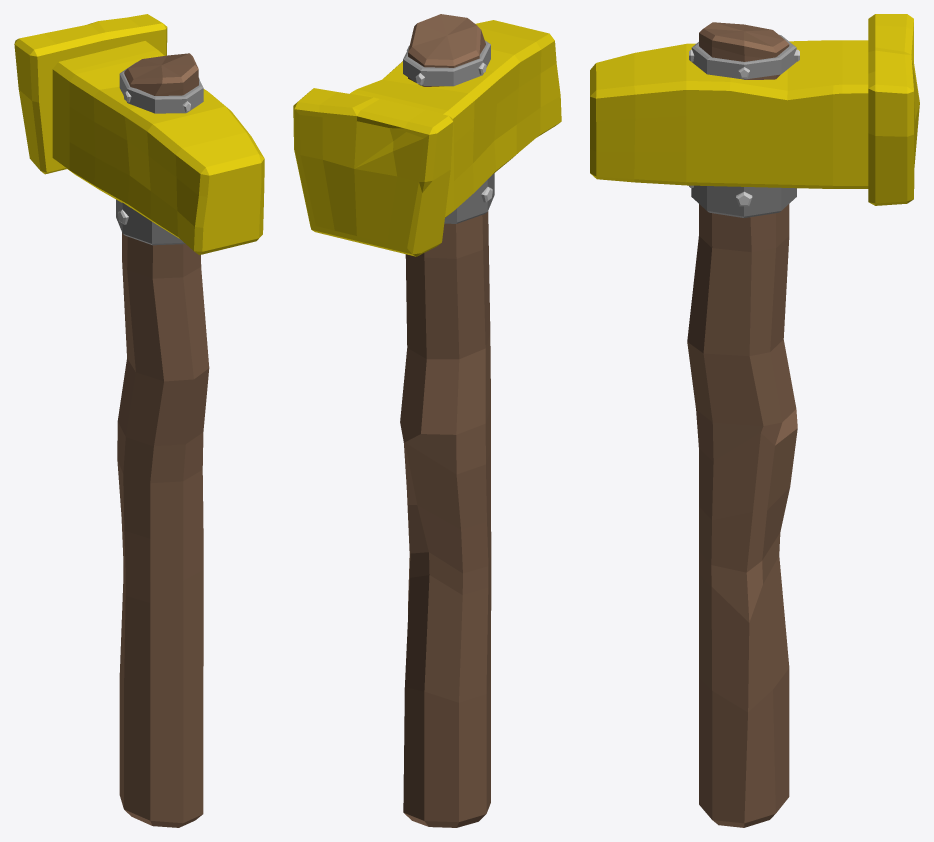
The model's file is Hammer3_Gold.fbx.
3 renders of one model, left to right at view 1: azimuth 30°, elevation 25°; view 2: azimuth 150°, elevation 25°; view 3: azimuth 270°, elevation 25°, orthographic. The views are drawn at different scales.
Visible parts, largest first — view 1: Hammer3_Gold; view 2: Hammer3_Gold; view 3: Hammer3_Gold.
Part boxes in pixels (<box>): Hammer3_Gold: <box>14,14,264,827</box>; Hammer3_Gold: <box>293,14,561,827</box>; Hammer3_Gold: <box>590,14,919,827</box>.
Bounding box in the file's own units: 10.81 × 56.86 × 21.55.
